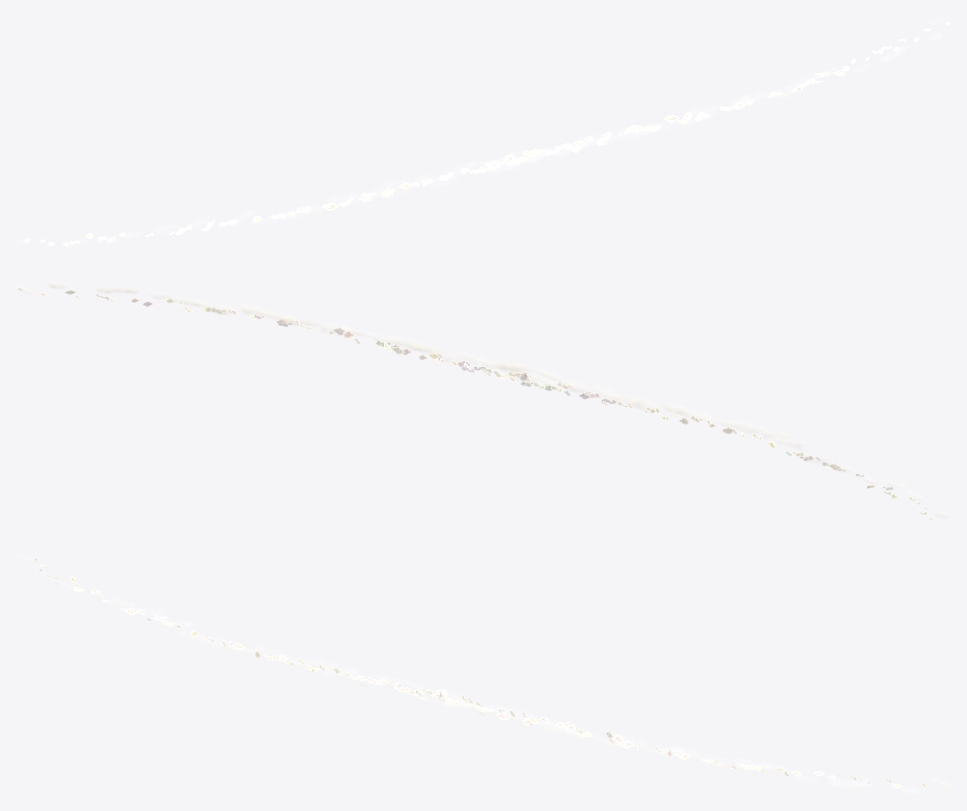
Rendered from wave_toe.glb.
3 renders of one model, top to bottom at view 1: azimuth 30°, elevation 25°; view 2: azimuth 150°, elevation 25°; view 3: azimuth 330°, elevation 25°, orthographic.
Size of the model in its own units: 608 by 10.94 by 57.33.
2 materials, 2 textured.
